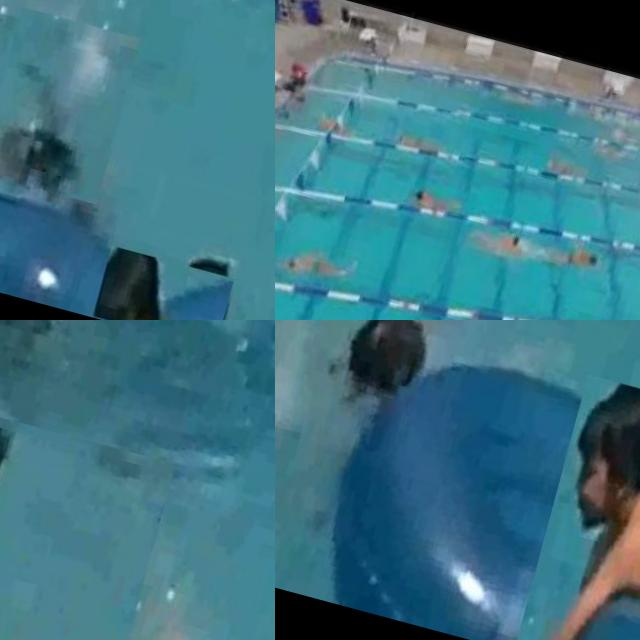drowning: (0, 407, 174, 640), (0, 7, 140, 206), (322, 320, 457, 416)
swimming: (514, 374, 640, 640), (90, 245, 233, 320), (285, 236, 351, 288), (556, 237, 604, 278), (482, 223, 530, 263), (409, 179, 456, 218), (538, 148, 586, 186), (398, 120, 446, 158)
